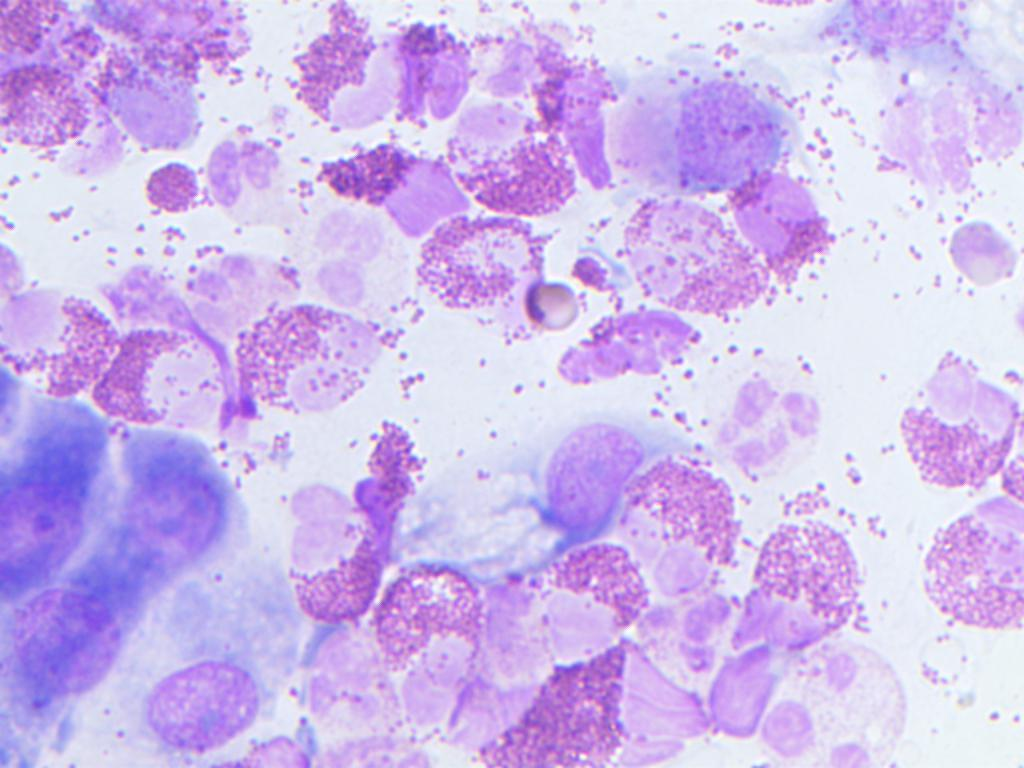eosinophil: (459, 630, 714, 768), (876, 345, 1023, 495), (231, 302, 398, 426), (0, 562, 129, 716), (613, 196, 762, 326), (77, 34, 225, 162), (735, 504, 865, 646), (313, 134, 468, 252), (406, 202, 544, 330), (629, 444, 732, 608), (911, 484, 1021, 636), (525, 542, 650, 672), (548, 302, 720, 396), (0, 446, 101, 606), (279, 480, 386, 630), (293, 7, 411, 139), (450, 93, 577, 211), (2, 286, 133, 396), (92, 330, 229, 432), (372, 562, 487, 672), (164, 242, 307, 330), (735, 162, 836, 286), (0, 61, 102, 169), (397, 13, 487, 128), (136, 163, 206, 223)
epithelial: (139, 615, 279, 767), (101, 440, 236, 580), (617, 77, 766, 189), (522, 422, 643, 540)
erythrocyte: (523, 275, 579, 339)
neutrophil: (754, 637, 911, 768), (727, 354, 832, 494), (205, 124, 314, 236)
